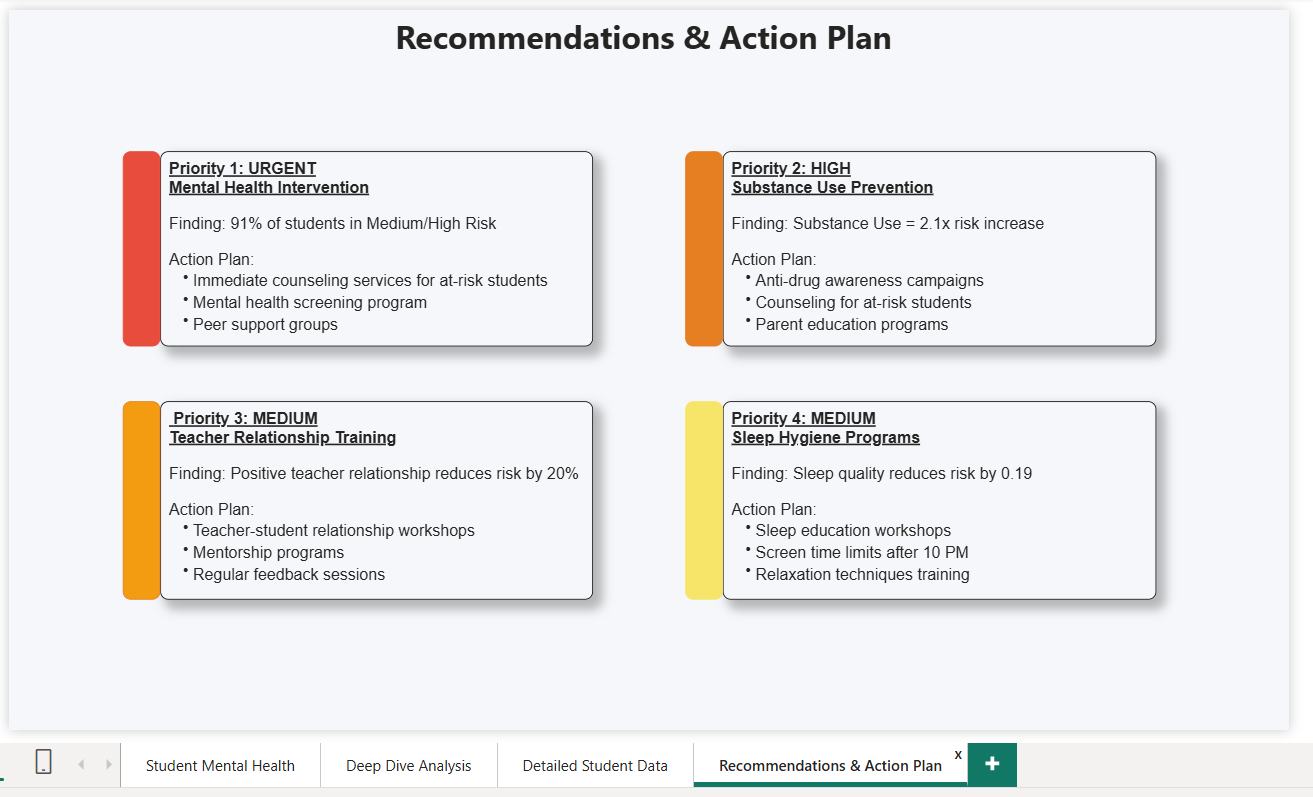

This screenshot's page, from the dashboard's own definition file:
{"tool":"powerbi","page":{"name":"Recommendations & Action Plan","canvas":[1280,720],"ordinal":3},"visuals":[{"type":"textbox","box":[381.2,0,517.5,67.5],"z":0},{"type":"textbox","box":[151.2,141.2,432.5,195],"z":1000},{"type":"textbox","box":[713.8,141.2,433.8,195],"z":2000},{"type":"textbox","box":[151.2,391.2,432.5,198.8],"z":3000},{"type":"textbox","box":[713.8,391.2,433.8,198.8],"z":4000},{"type":"shape","box":[113.8,141.2,37.5,195],"z":5000},{"type":"shape","box":[676.2,141.2,37.5,195],"z":6000},{"type":"shape","box":[113.8,391.2,37.5,198.8],"z":7000},{"type":"shape","box":[676.2,391.2,37.5,198.8],"z":8000}]}

Visuals, with their boxes in screenshot pixels (x1, y1, x2, y2):
textbox: BBox(389, 3, 913, 72)
textbox: BBox(156, 146, 594, 344)
textbox: BBox(726, 146, 1164, 344)
textbox: BBox(156, 399, 594, 600)
textbox: BBox(726, 399, 1164, 600)
shape: BBox(119, 146, 156, 344)
shape: BBox(687, 146, 725, 344)
shape: BBox(119, 399, 156, 600)
shape: BBox(687, 399, 725, 600)
